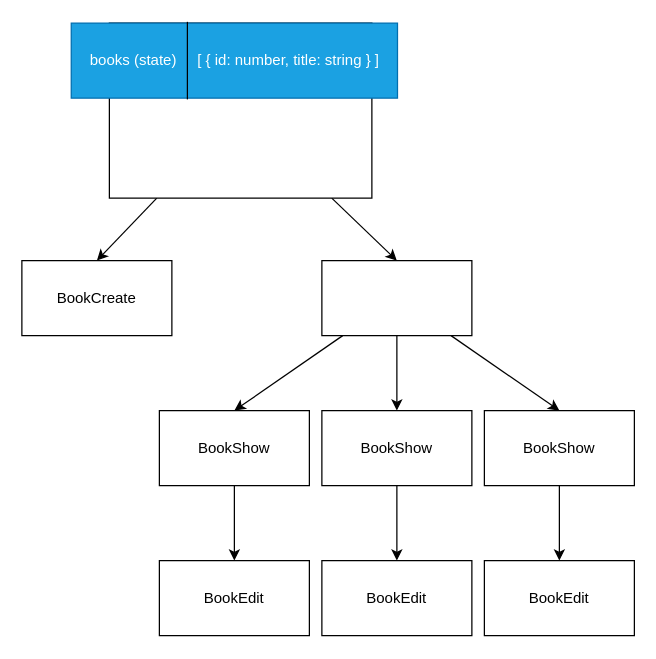
This 656x659 diagram has some shape labels left out. The shapes that lost their labels are listed below. From the top down, each one's box as (x1, y1, x2, y2) in pixels, then its label:
(108, 22, 372, 198): App
(321, 259, 472, 336): BookList
